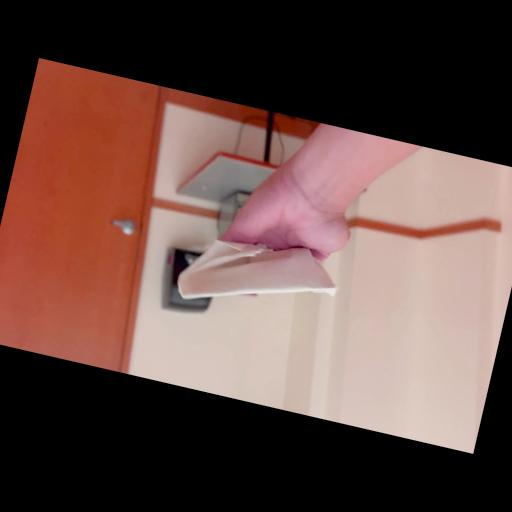napkin: (173, 217, 346, 334)
